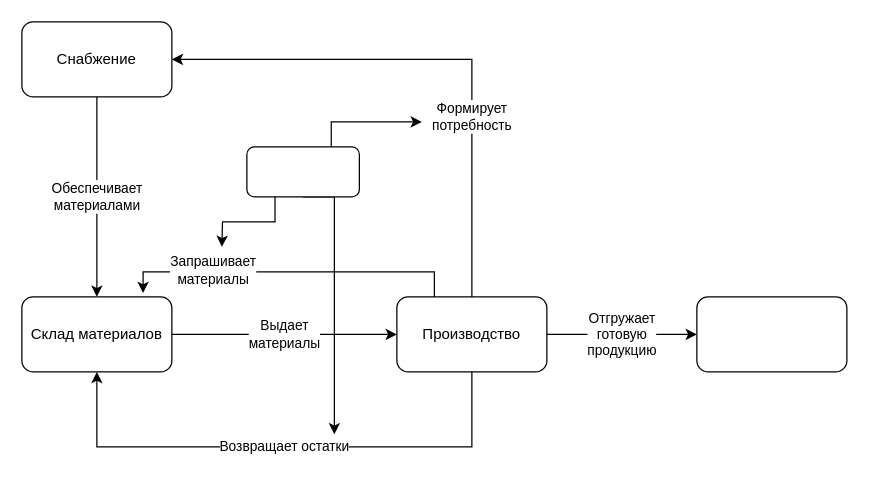
The diagram is 869 pixels wide and 479 high, and some of its shapes have lost their labels. Each missing label, with the centre of its shape:
"Контроль??" belongs at point 302,171.
"Склад готовой продукции" belongs at point 771,334.
